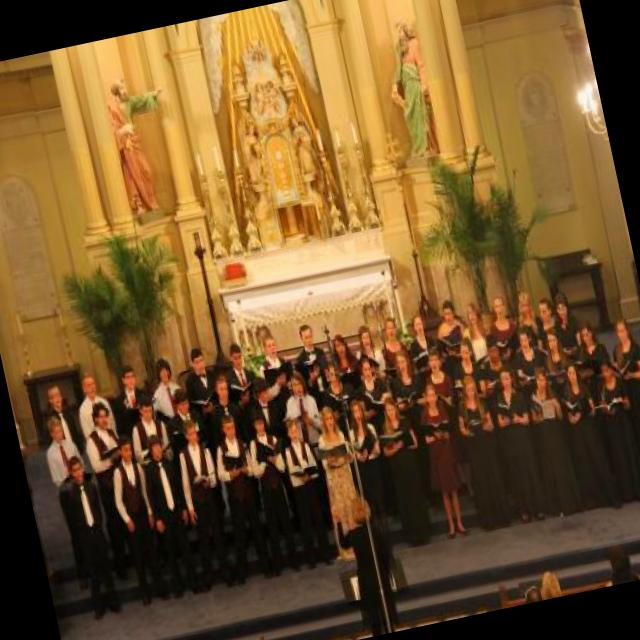Person: (26, 253, 640, 640), (306, 391, 397, 618)
